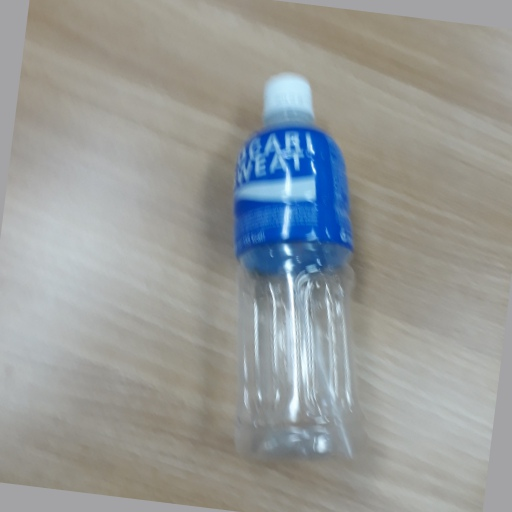Plastic_0: (226, 72, 358, 460)
